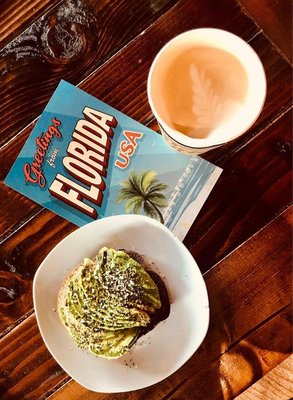pizza: (146, 27, 268, 152)
sushi: (34, 214, 211, 396)
